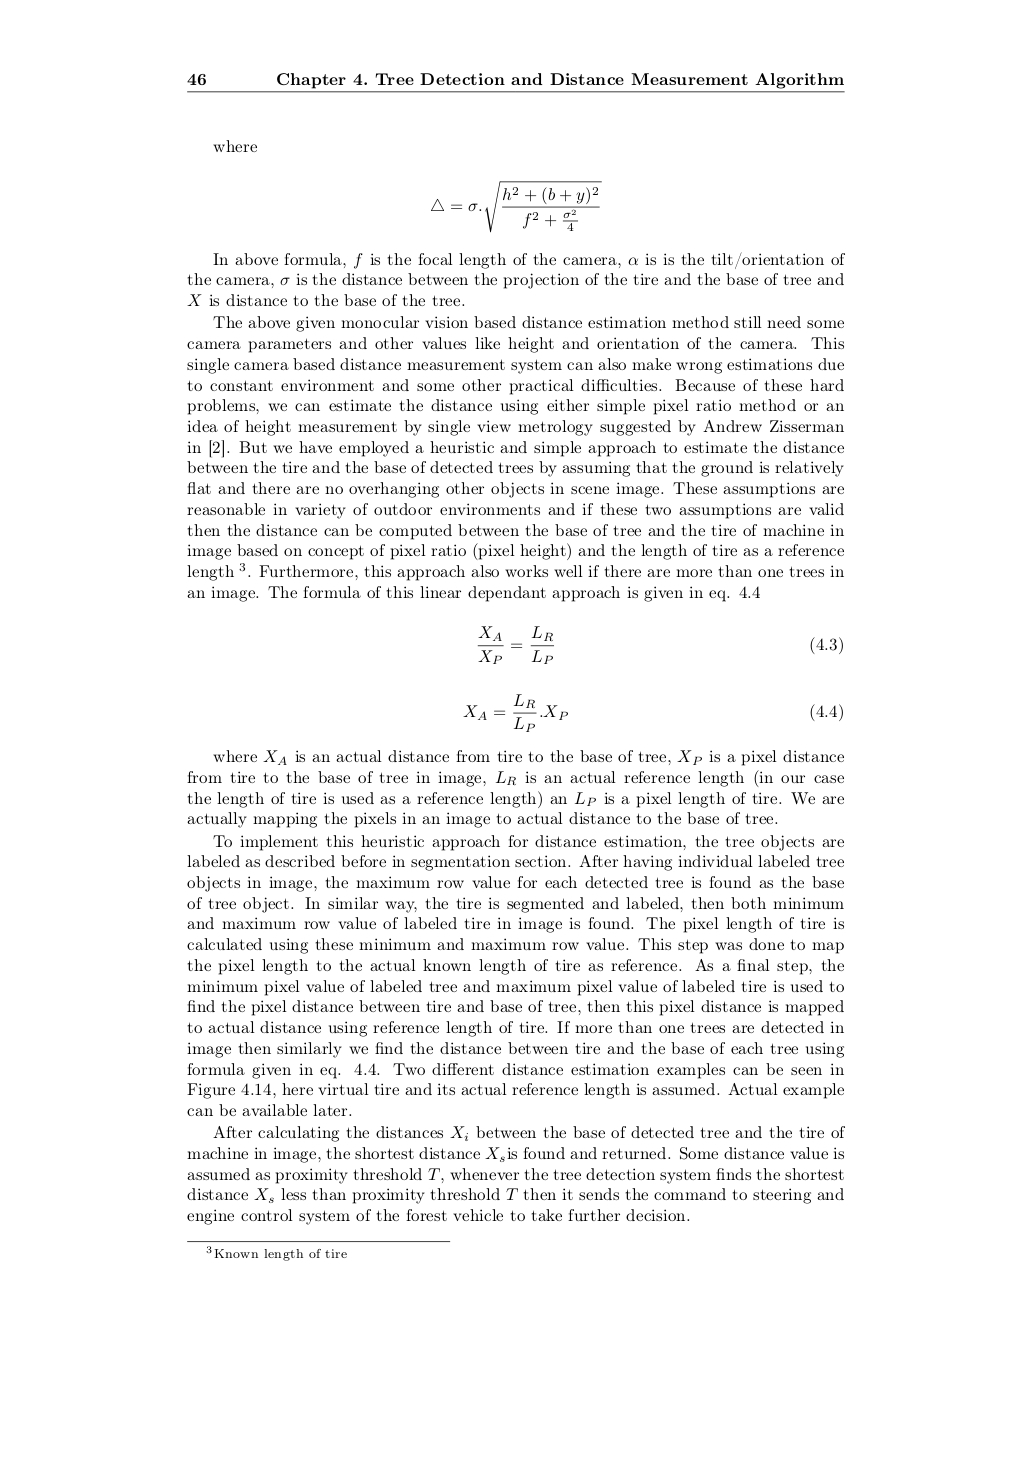formula: (463, 693, 842, 732), (476, 625, 842, 664), (431, 180, 601, 233)
